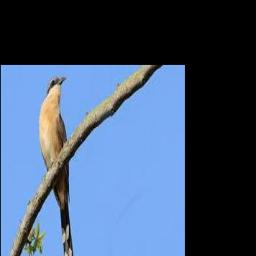Cuckoo: (39, 77, 74, 256)
